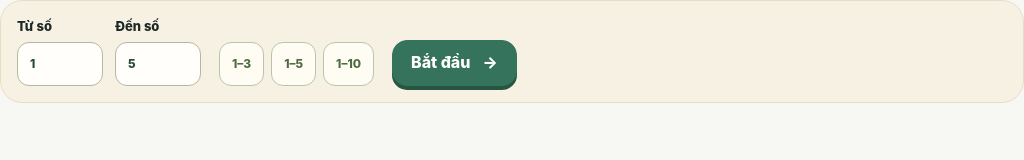
Test: L09 invalid blank only changes the edited field
The image size is (1024, 160).
Clear the number field labelled "Từ số" at (60, 64), box [17,42,103,86]
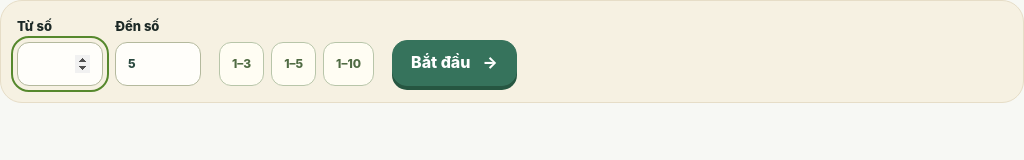
Press Tab
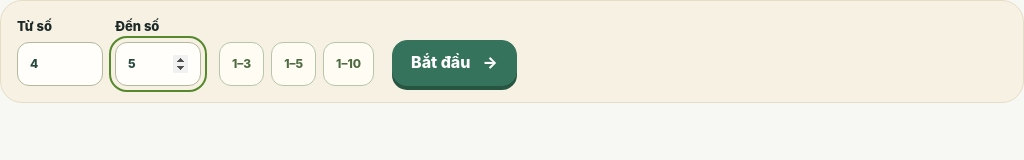
Expected: the number field labelled "Đến số" holds "5", [115,42,201,86]
Expected: the number field labelled "Từ số" holds "4", [17,42,103,86]
